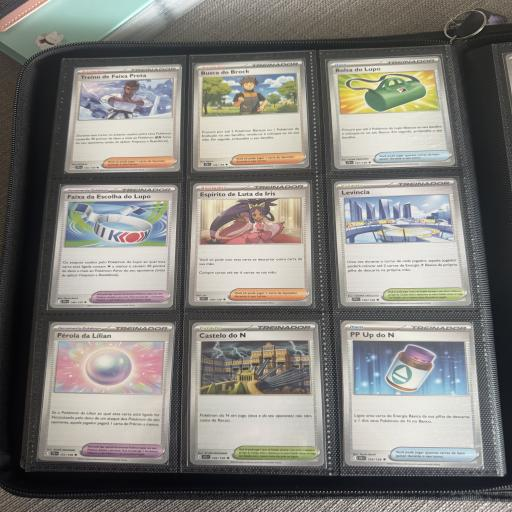card: (341, 317, 484, 470), (37, 319, 175, 464), (190, 320, 326, 466), (333, 178, 472, 309), (49, 185, 178, 308), (188, 182, 313, 306), (328, 55, 456, 171), (189, 59, 310, 172), (65, 63, 182, 175)
